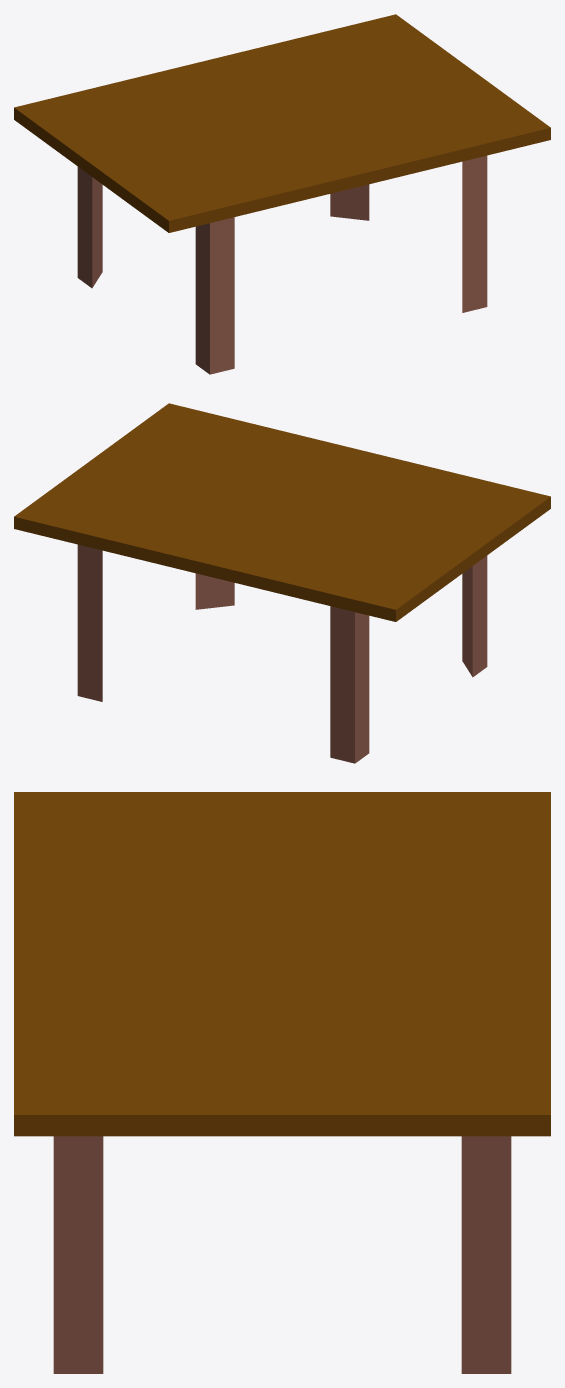
File: table1.fbx
The picture shows the model from 3 angles, top to bottom: view 1: azimuth 30°, elevation 25°; view 2: azimuth 150°, elevation 25°; view 3: azimuth 270°, elevation 25°; orthographic projection. The views are drawn at different scales.
Parts seen in each view (by area): view 1: Head, Cube.001, Cube.002, Cube, Cube.003; view 2: Head, Cube, Cube.003, Cube.001, Cube.002; view 3: Head, Cube.002, Cube.003.
Part boxes in pixels (left/top/right/bottom): Head: left=14, top=14, right=550, bottom=232; Cube.001: left=195, top=217, right=234, bottom=374; Cube.002: left=462, top=155, right=487, bottom=312; Cube: left=77, top=166, right=102, bottom=288; Cube.003: left=330, top=184, right=369, bottom=220; Head: left=14, top=403, right=550, bottom=621; Cube: left=330, top=606, right=369, bottom=763; Cube.003: left=77, top=544, right=102, bottom=701; Cube.001: left=462, top=555, right=487, bottom=677; Cube.002: left=195, top=573, right=234, bottom=609; Head: left=14, top=792, right=550, bottom=1136; Cube.002: left=53, top=1136, right=103, bottom=1373; Cube.003: left=461, top=1136, right=511, bottom=1373.
Bounding box in the file's own units: 787 × 344 × 553.
